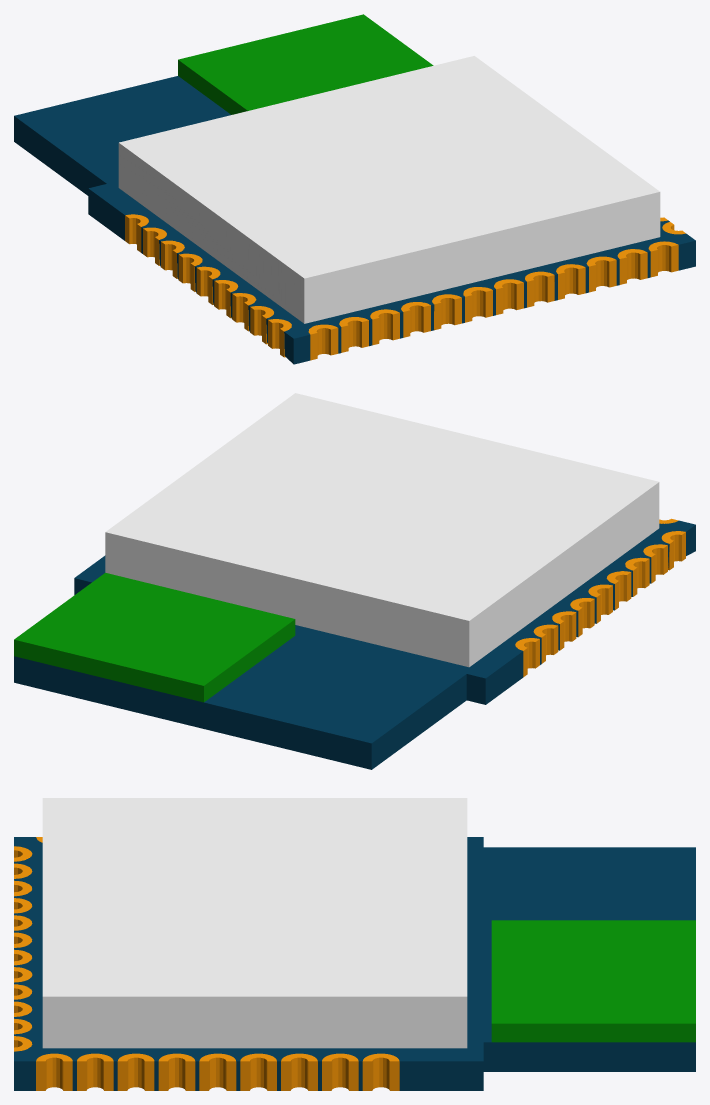
Rendered from RYUW122.dae.
3 renders of one model, top to bottom at view 1: azimuth 30°, elevation 25°; view 2: azimuth 150°, elevation 25°; view 3: azimuth 270°, elevation 25°, orthographic. The views are drawn at different scales.
Parts seen in each view (by area): view 1: node1, node0, node32, node22, node11, node12, node15, node17, node13, node16, node18, node20 (+12 smaller); view 2: node1, node0, node32, node23, node25, node24, node26, node28, node31, node27, node29, node30; view 3: node1, node0, node32, node6, node2, node8, node7, node3, node9, node5, node4, node10.
Part boxes in pixels (left/top/right/bottom): node1: left=118, top=56, right=660, bottom=323; node0: left=14, top=76, right=695, bottom=364; node32: left=178, top=14, right=433, bottom=114; node22: left=308, top=324, right=338, bottom=360; node11: left=648, top=241, right=678, bottom=277; node12: left=617, top=249, right=647, bottom=284; node15: left=525, top=271, right=554, bottom=307; node17: left=463, top=287, right=492, bottom=322; node13: left=586, top=256, right=616, bottom=292; node16: left=494, top=279, right=523, bottom=314; node18: left=432, top=294, right=461, bottom=330; node20: left=370, top=309, right=399, bottom=345; node1: left=105, top=393, right=659, bottom=667; node0: left=14, top=520, right=695, bottom=769; node32: left=14, top=573, right=295, bottom=702; node23: left=533, top=624, right=558, bottom=663; node25: left=661, top=531, right=685, bottom=570; node24: left=515, top=638, right=539, bottom=677; node26: left=643, top=544, right=667, bottom=583; node28: left=552, top=611, right=576, bottom=650; node31: left=570, top=598, right=594, bottom=636; node27: left=588, top=584, right=612, bottom=623; node29: left=625, top=557, right=649, bottom=596; node30: left=606, top=571, right=631, bottom=609; node1: left=42, top=798, right=467, bottom=1048; node0: left=14, top=837, right=695, bottom=1090; node32: left=491, top=920, right=695, bottom=1042; node6: left=199, top=1053, right=236, bottom=1090; node2: left=362, top=1053, right=399, bottom=1090; node8: left=117, top=1053, right=154, bottom=1090; node7: left=158, top=1053, right=195, bottom=1090; node3: left=322, top=1053, right=358, bottom=1090; node9: left=77, top=1053, right=113, bottom=1090; node5: left=240, top=1053, right=276, bottom=1090; node4: left=281, top=1053, right=317, bottom=1090; node10: left=36, top=1053, right=72, bottom=1090.
Size of the model in its own units: 0.013 by 0.0167 by 0.0022.
